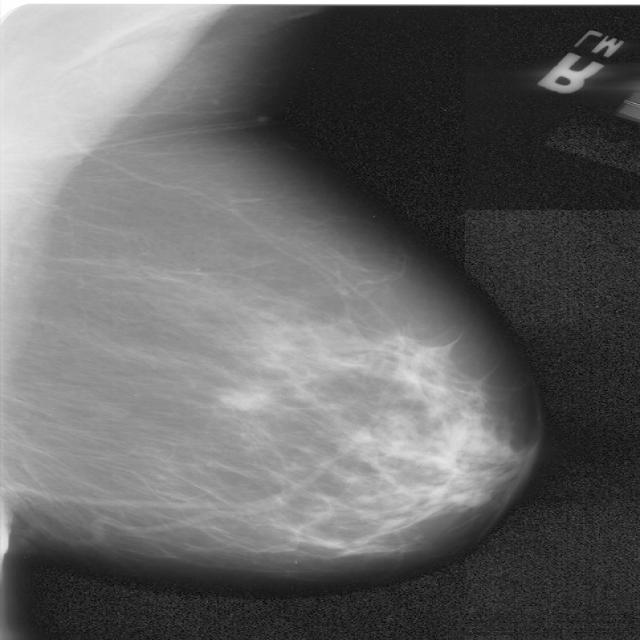tumour: (211, 389, 269, 411)
